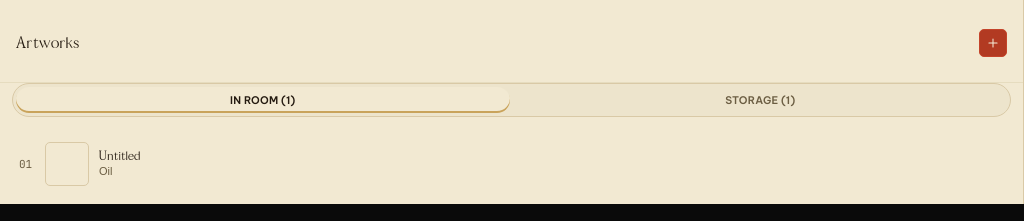
Scenario: ArtworksPane › filters artworks between In Room and Storage tabs
The width and height of the screenshot is (1024, 221).
expect the tab "In Room (1)" is shown: met, box [16,87,510,113]
expect the text "Untitled" is shown: met, box [99,150,141,163]
Click the tab "Storage (1)" at (760, 100), box [514,87,1007,113]
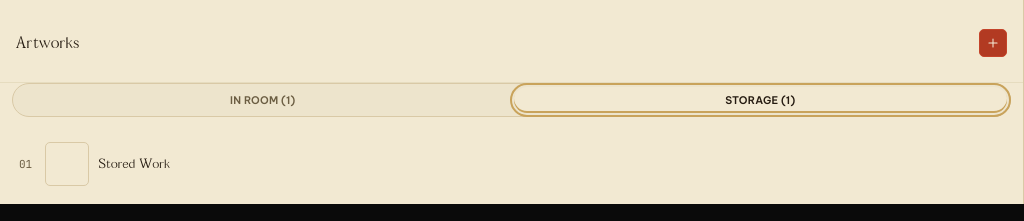
expect the text "Stored Work" is shown: met, box [99,158,170,170]
